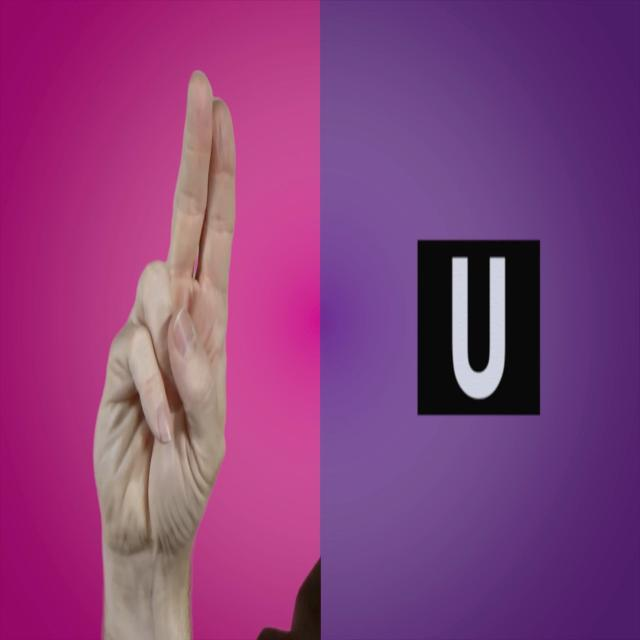U: (82, 55, 261, 640)
